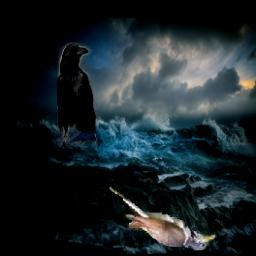Crow: (57, 43, 100, 150)
Cuckoo: (107, 184, 215, 251)
